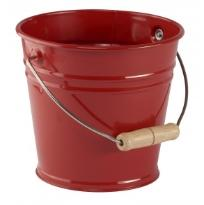SEAU: (11, 7, 189, 193)
